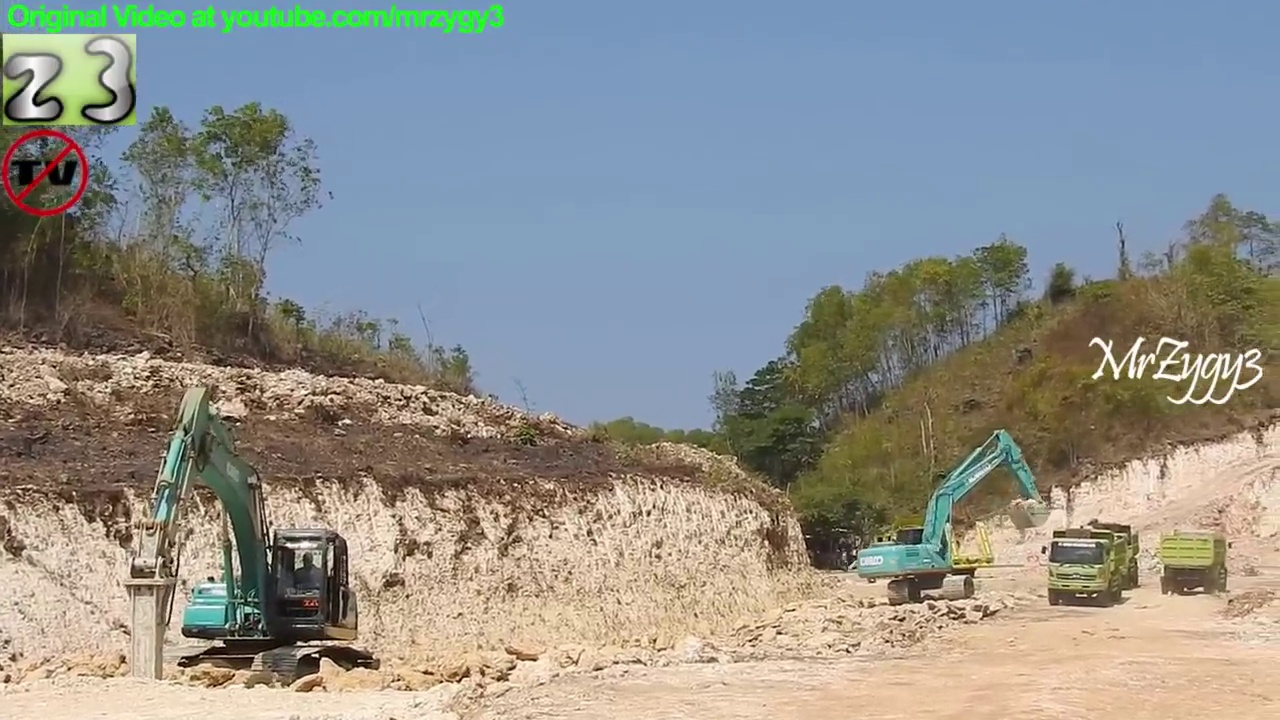excavator: (855, 426, 1050, 606)
excavator breaker: (122, 382, 382, 692)
truck: (1040, 527, 1130, 609), (1058, 519, 1144, 598), (1158, 526, 1236, 602)
